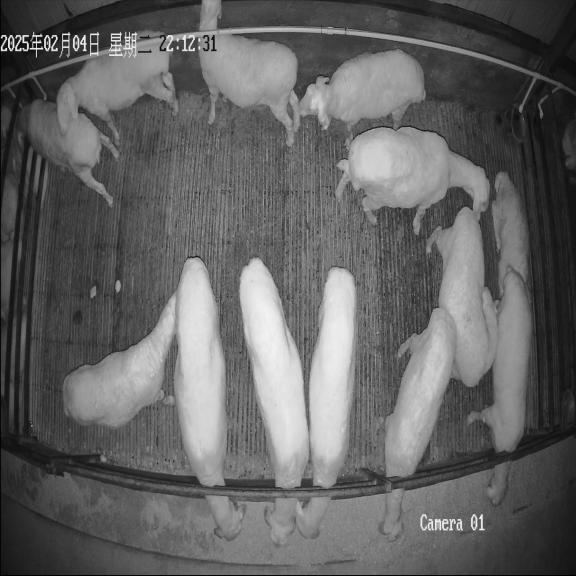drinking: (16, 99, 118, 206)
eating: (174, 257, 246, 540), (240, 258, 309, 545), (376, 307, 456, 540), (295, 267, 356, 539), (468, 267, 532, 506)
lying: (491, 172, 532, 304)
stand: (336, 127, 489, 235), (62, 292, 176, 428), (199, 0, 299, 146), (56, 30, 178, 149), (426, 207, 497, 387), (299, 49, 425, 147)
